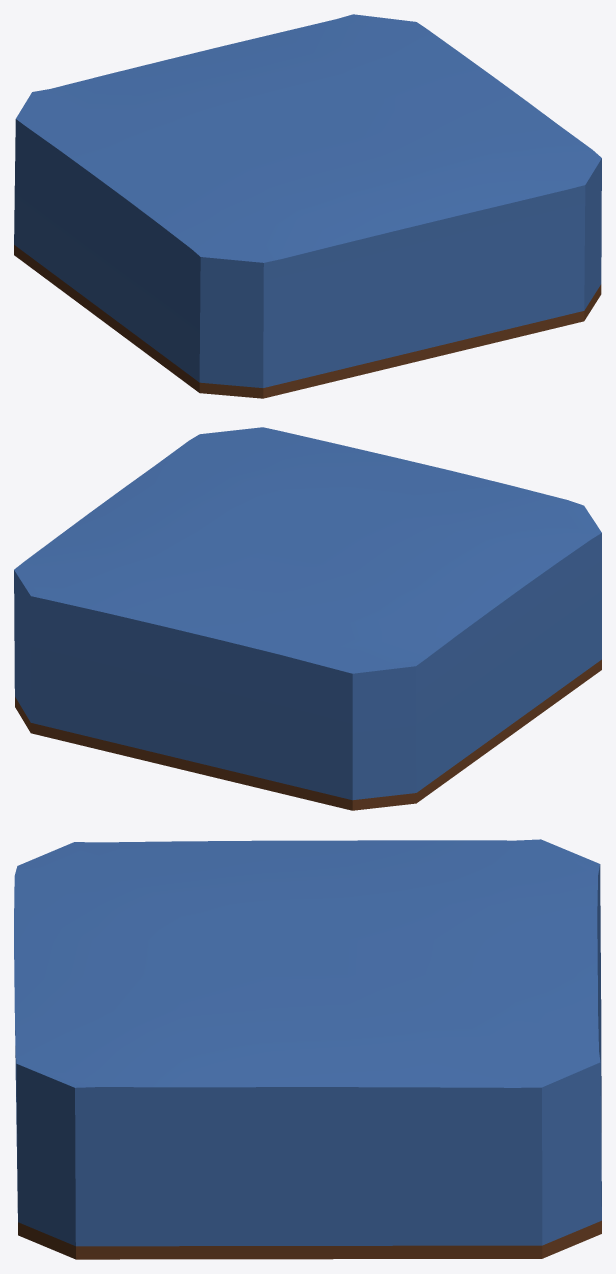
File: TeaTable.fbx
3 views of the same model, one above another, from view 1: azimuth 30°, elevation 25°; view 2: azimuth 150°, elevation 25°; view 3: azimuth 270°, elevation 25° (orthographic). The views are drawn at different scales.
Visible parts, largest first — view 1: TeaTable; view 2: TeaTable; view 3: TeaTable.
Part boxes in pixels (bbox=[...]): TeaTable: bbox=[14, 14, 601, 398]; TeaTable: bbox=[14, 427, 601, 810]; TeaTable: bbox=[14, 839, 601, 1259].
Bounding box in the file's own units: 120 × 40.98 × 121.
